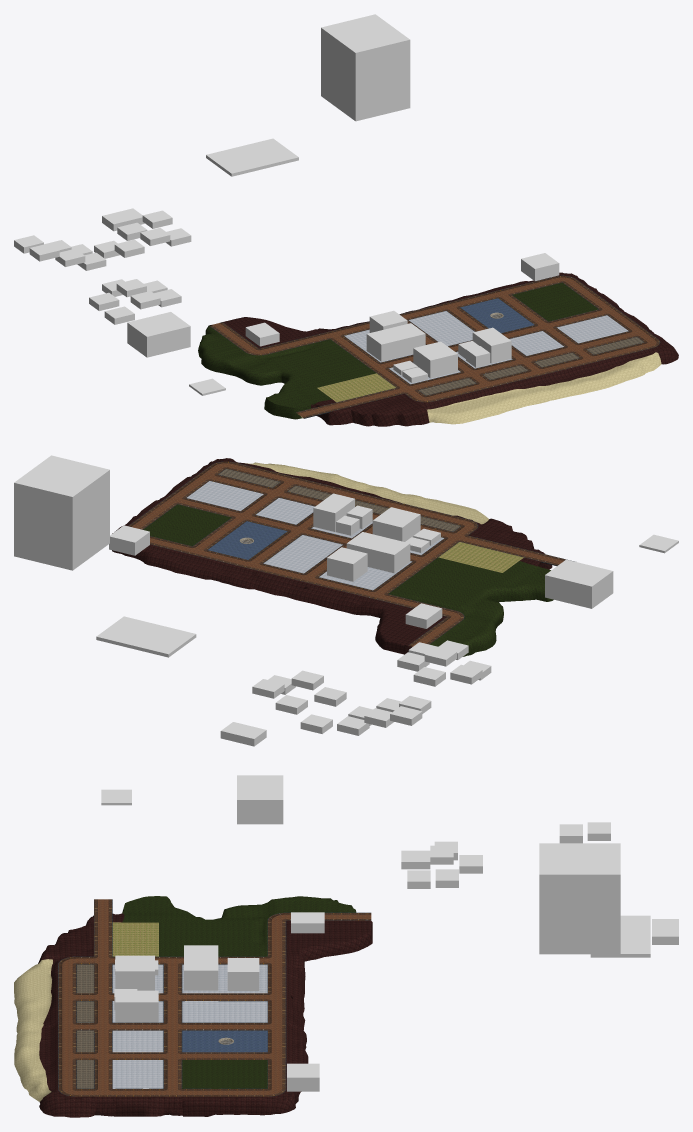
The model's file is street_test.FBX.
The picture shows the model from 3 angles, top to bottom: view 1: azimuth 30°, elevation 25°; view 2: azimuth 150°, elevation 25°; view 3: azimuth 270°, elevation 25°; orthographic projection. The views are drawn at different scales.
Parts seen in each view (by area): view 1: Plane132, Box041, Box039, Box042, Box012, Box013, Box035, Box038; view 2: Plane132, Box041, Box039, Box042, Box012, Box013, Box011, Box035, Box038, Box062, Box037, Box057 (+10 smaller); view 3: Plane132, Box041, Box039, Box012, Box035, Box042, Box013, Box011, Box038, Box037, Box062, Box040.
Boxes of the visible parts, <box> form: Plane132: <box>198,272,678,426</box>; Box041: <box>321,14,410,121</box>; Box039: <box>127,312,190,357</box>; Box042: <box>206,138,298,176</box>; Box012: <box>366,323,425,361</box>; Box013: <box>413,341,457,378</box>; Box035: <box>472,327,511,363</box>; Box038: <box>521,253,559,280</box>; Plane132: <box>112,458,574,656</box>; Box041: <box>14,455,109,570</box>; Box039: <box>545,559,613,608</box>; Box042: <box>96,616,196,657</box>; Box012: <box>346,532,410,573</box>; Box013: <box>372,507,420,541</box>; Box011: <box>327,547,367,581</box>; Box035: <box>313,493,354,531</box>; Box038: <box>109,525,149,555</box>; Box062: <box>220,722,266,746</box>; Box037: <box>405,603,442,628</box>; Box057: <box>291,670,323,690</box>; Plane132: <box>14,896,372,1117</box>; Box041: <box>539,843,620,954</box>; Box039: <box>237,775,283,824</box>; Box012: <box>184,945,218,990</box>; Box035: <box>115,990,158,1022</box>; Box042: <box>590,915,650,957</box>; Box013: <box>115,955,154,990</box>; Box011: <box>227,958,259,990</box>; Box038: <box>287,1063,319,1091</box>; Box037: <box>291,912,324,933</box>; Box062: <box>652,919,678,944</box>; Box040: <box>101,789,131,805</box>.
Size of the model in its own units: 5616 by 2101 by 6044.
